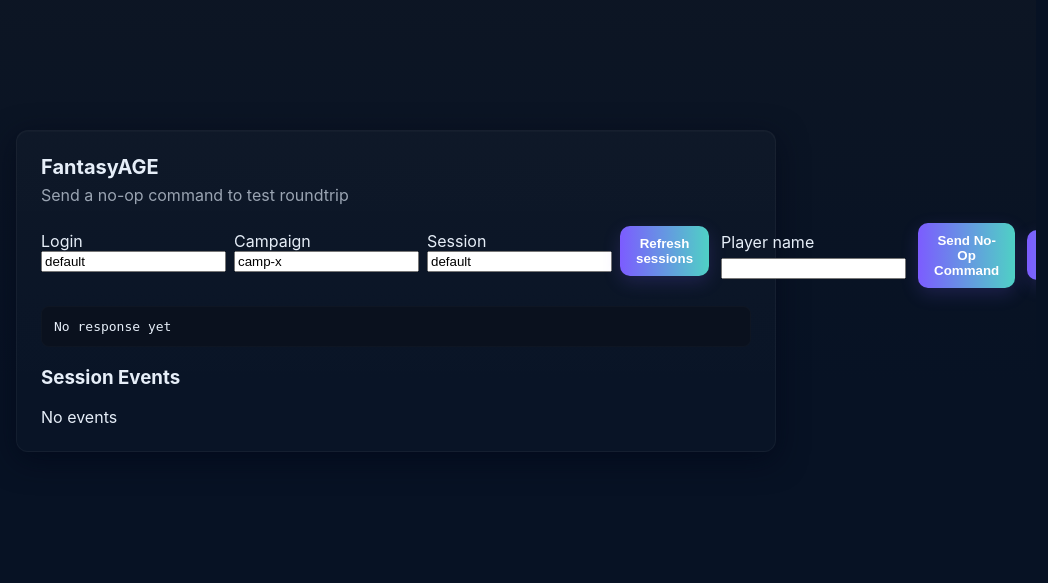
Test: App › renders no-op command control
Click the button "Send No-Op Command": [967, 255] box x1=918 y1=223 x2=1015 y2=288
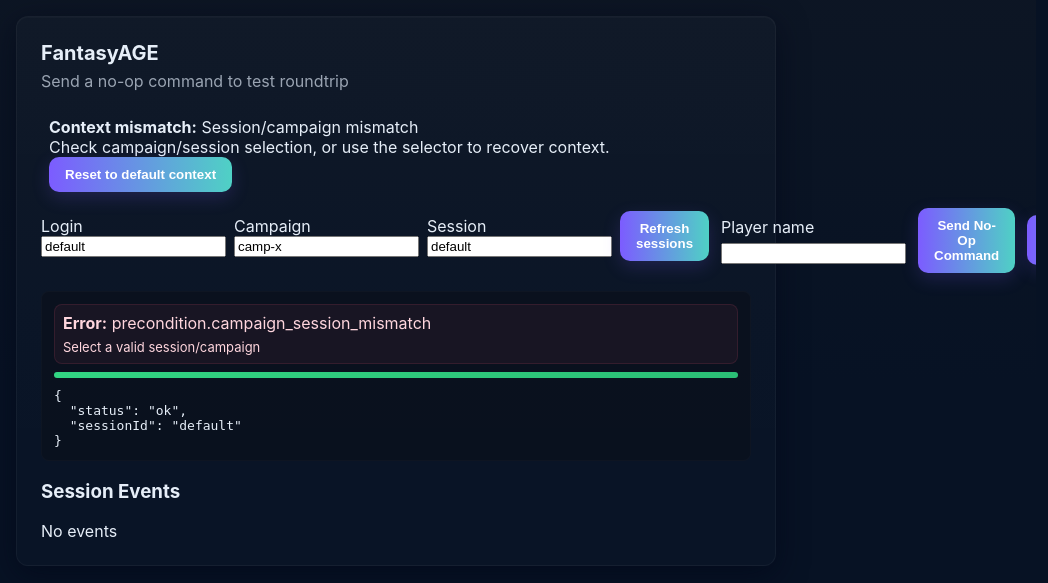
Expected: the text "Context mismatch:" is shown, x1=49 y1=117 x2=197 y2=137
Expected: the button "Reset to default context" is shown, x1=49 y1=157 x2=232 y2=192
